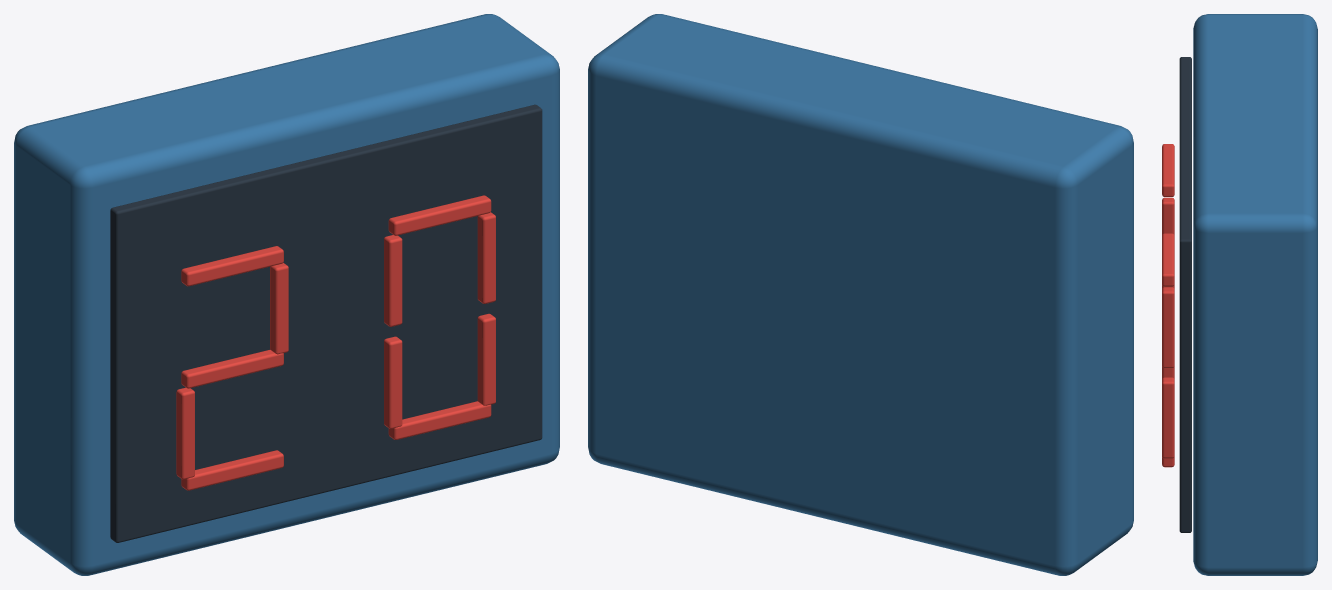
Rendered from squash-club-and-racket-workshop-shot-timer-691632d3__29747.glb.
3 renders of one model, left to right at view 1: azimuth 30°, elevation 25°; view 2: azimuth 150°, elevation 25°; view 3: azimuth 270°, elevation 25°, orthographic. The views are drawn at different scales.
Parts seen in each view (by area): view 1: shot-timer; view 2: shot-timer; view 3: shot-timer.
Boxes of the visible parts, box(x1,y1,x2,y2) form: shot-timer: box(14, 14, 559, 575); shot-timer: box(588, 14, 1133, 575); shot-timer: box(1162, 14, 1317, 575).
Bounding box in the file's own units: 0.4 × 0.32 × 0.125.
